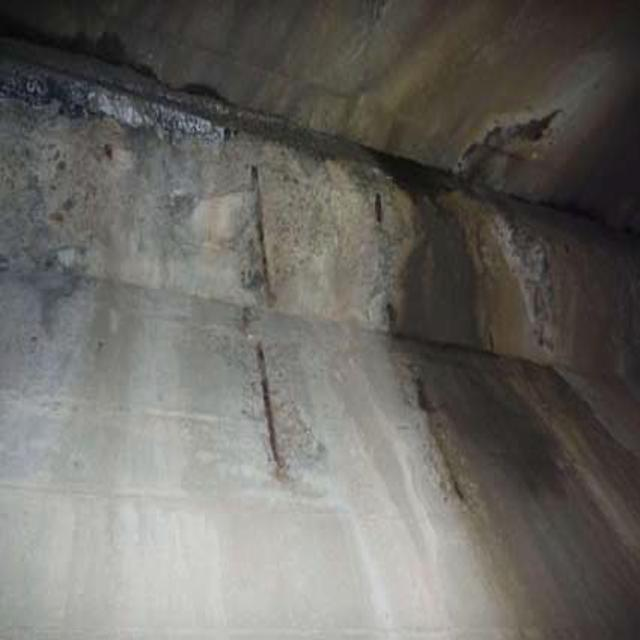spalling: (182, 116, 592, 346), (227, 376, 312, 500), (400, 387, 469, 516)
